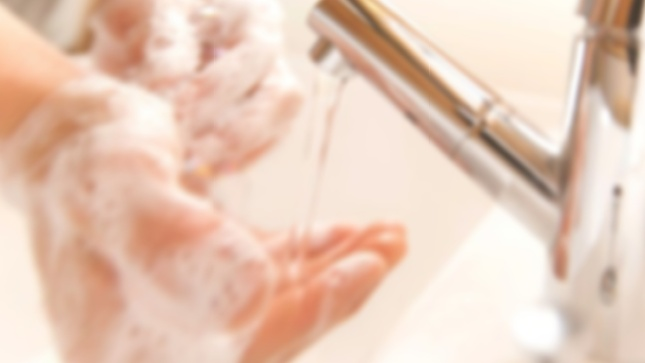washing hand: (0, 0, 596, 362)
